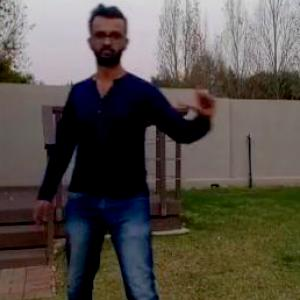land_hand: (173, 77, 226, 124)
